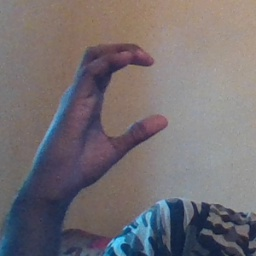C: (55, 40, 178, 155)
